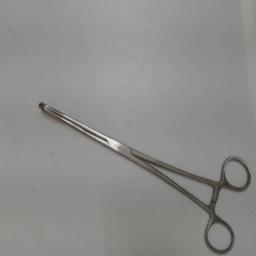Sponge Forceps: (33, 94, 253, 256)
